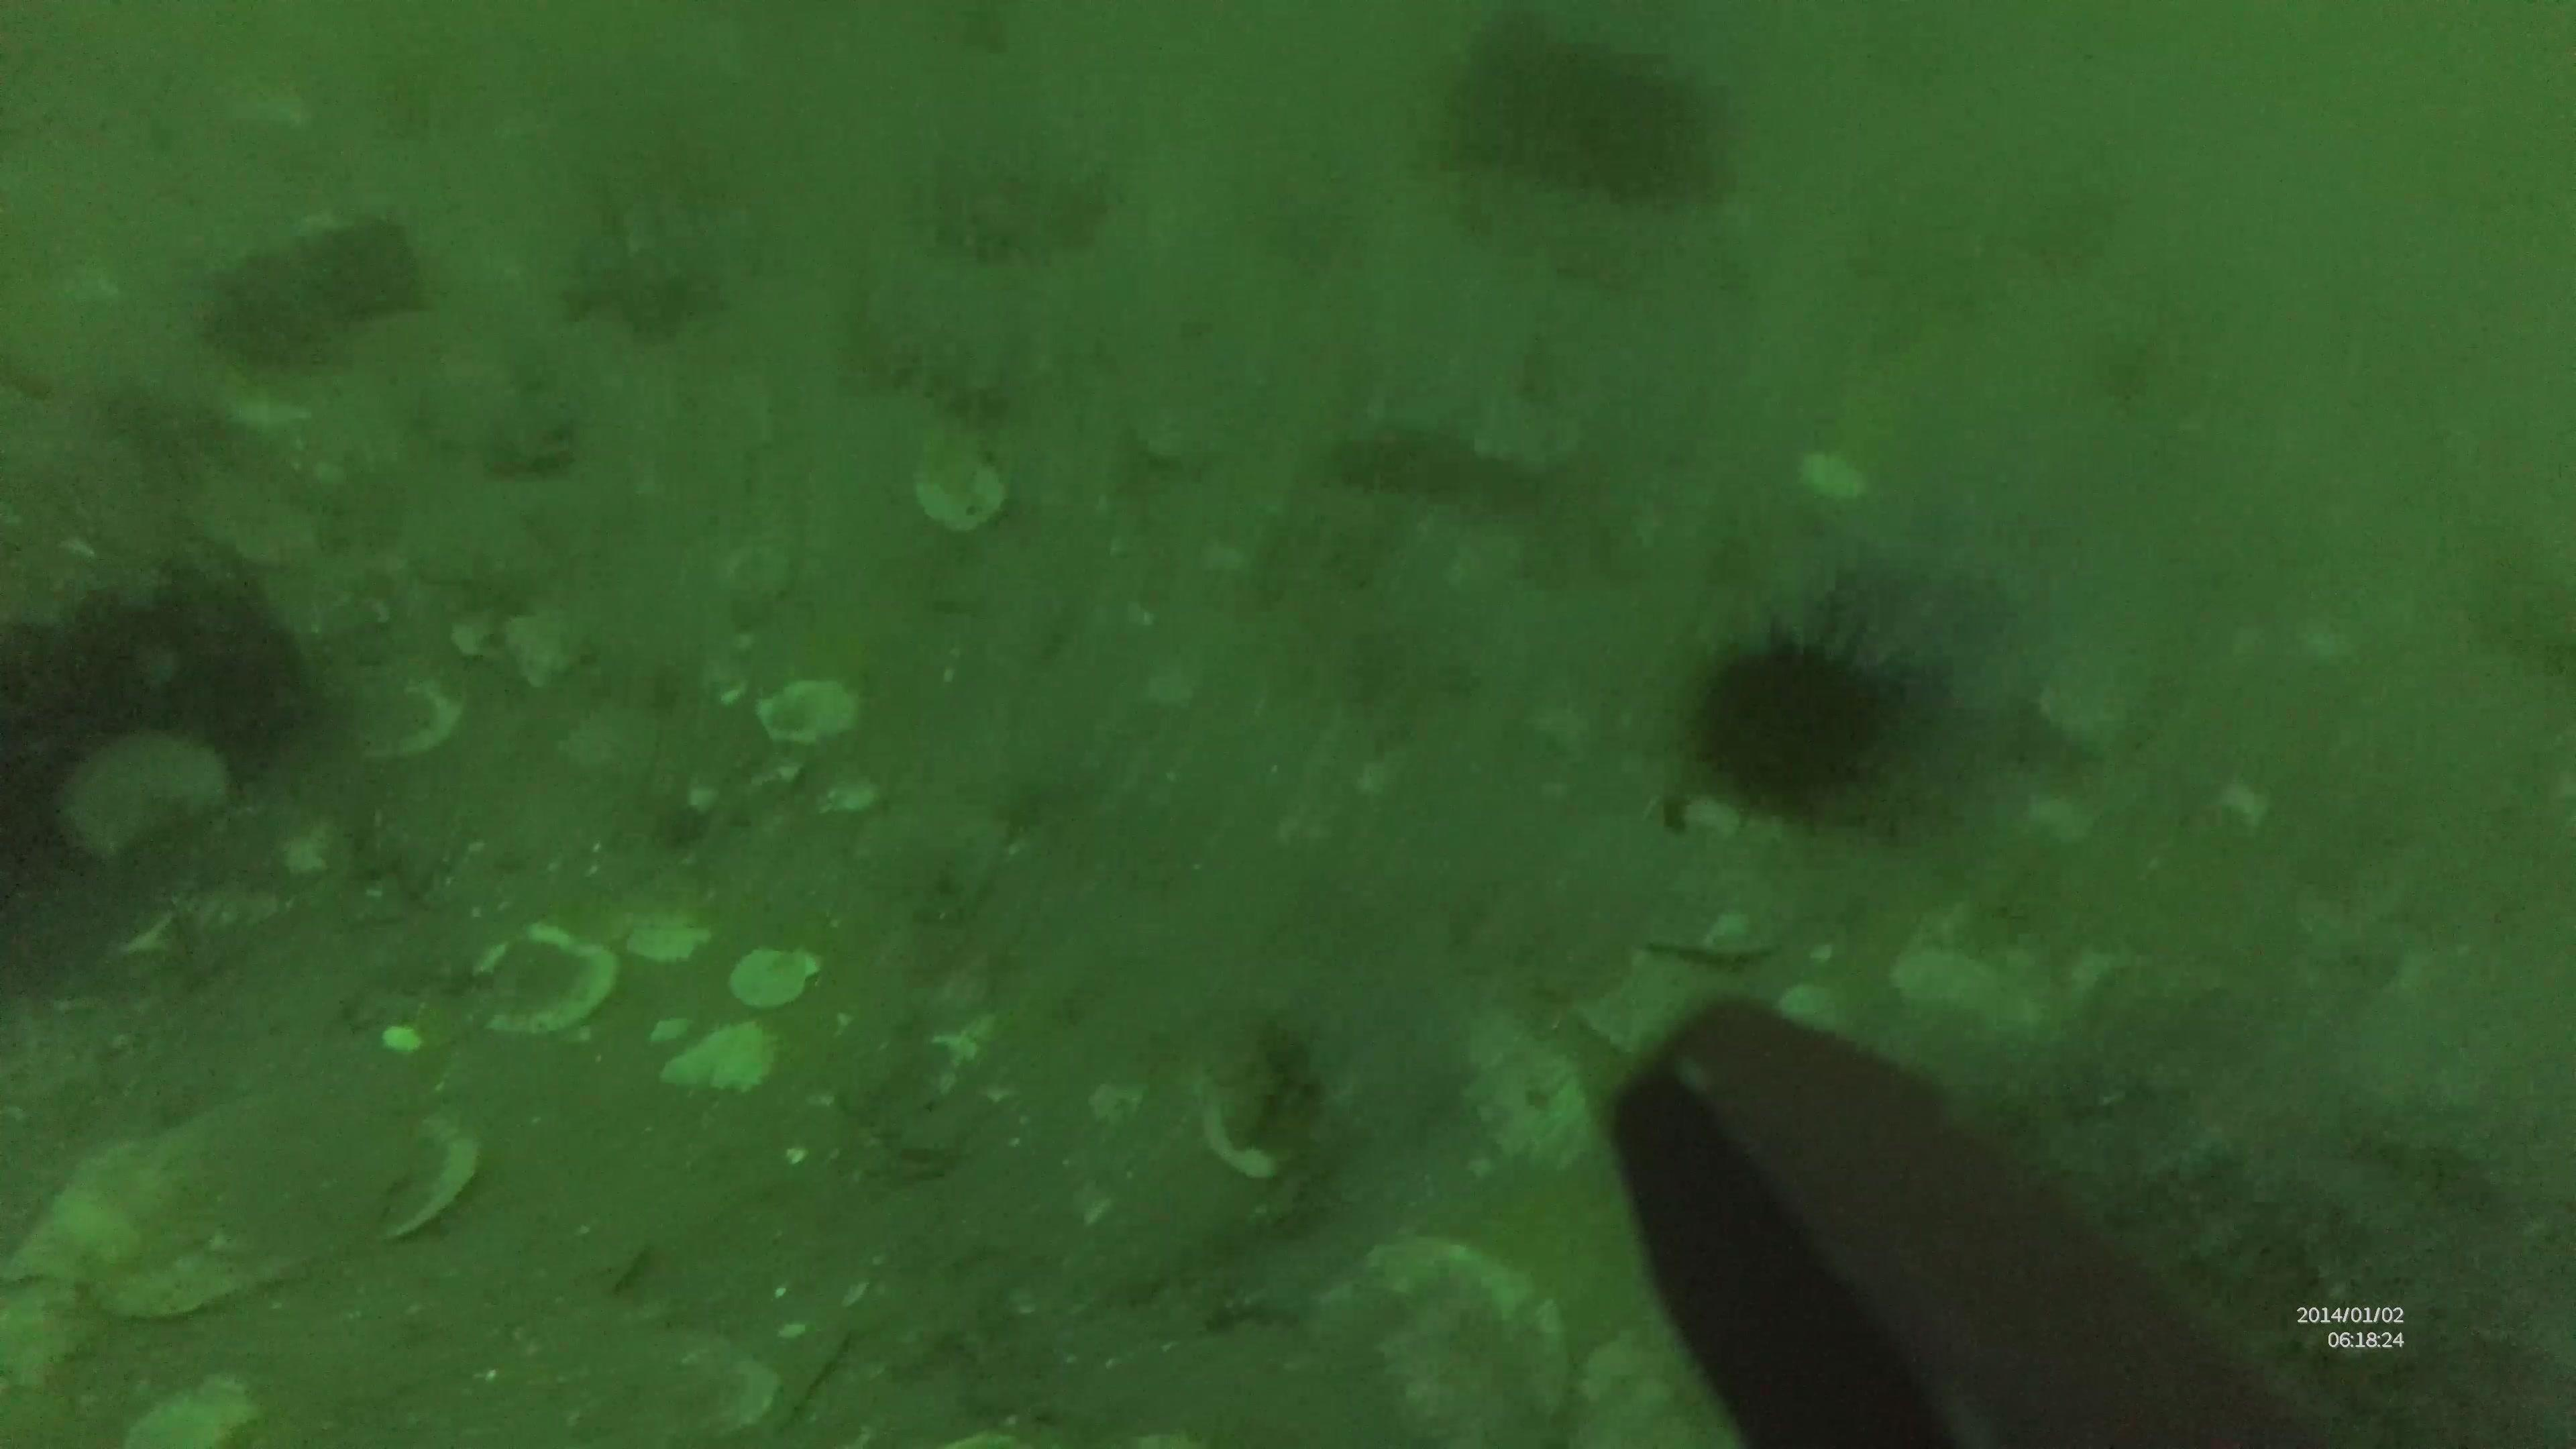echinus: (1686, 623, 1936, 824)
